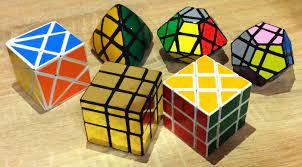cube: (163, 55, 251, 155), (81, 60, 162, 154), (6, 21, 89, 110)
